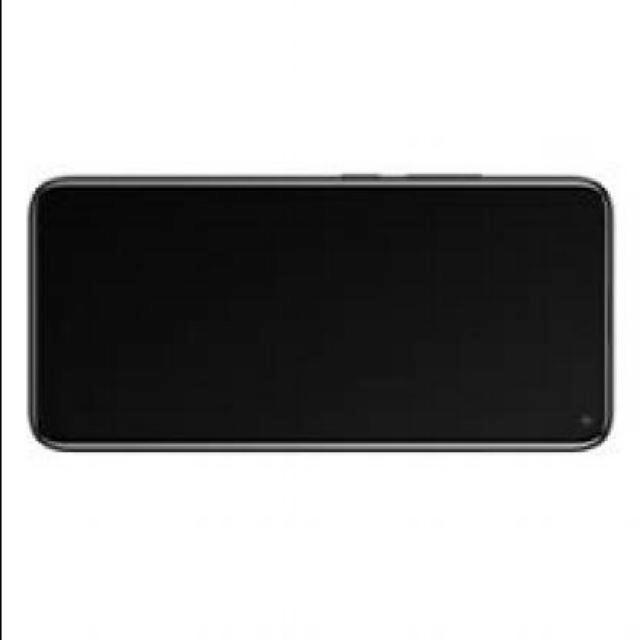fake: (28, 170, 614, 456)
